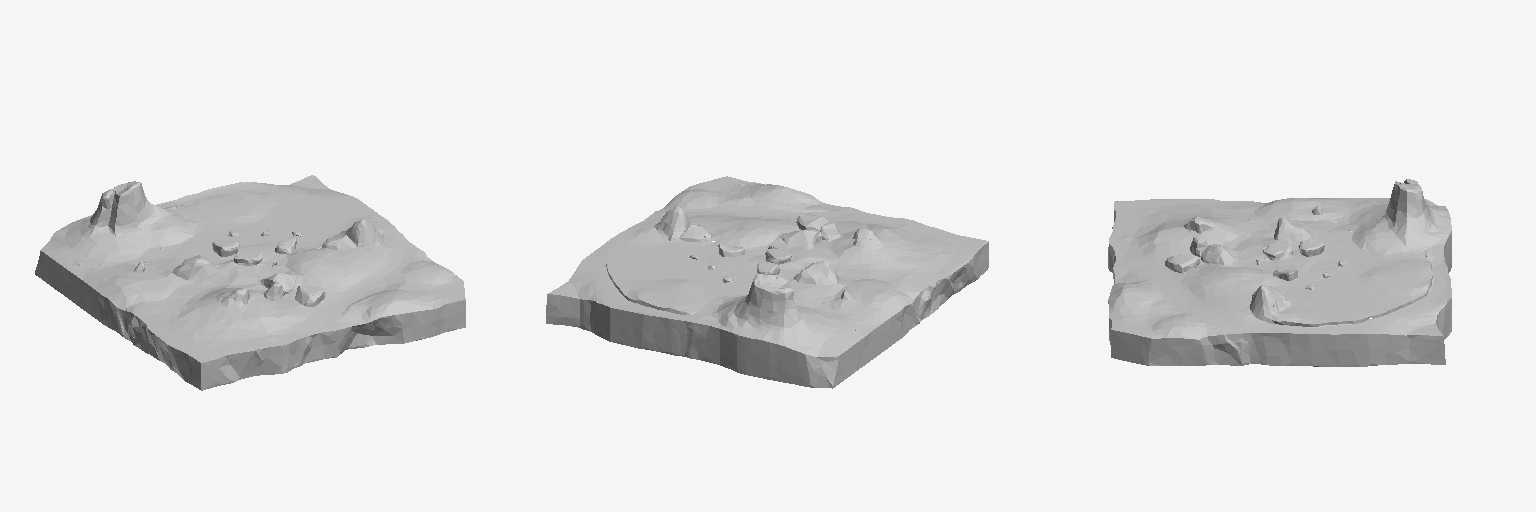
The model's file is terrain.obj.
3 views of the same model, side by side, from view 1: azimuth 30°, elevation 25°; view 2: azimuth 150°, elevation 25°; view 3: azimuth 270°, elevation 25° (orthographic).
Bounding box in the file's own units: 192 × 52.78 × 199.